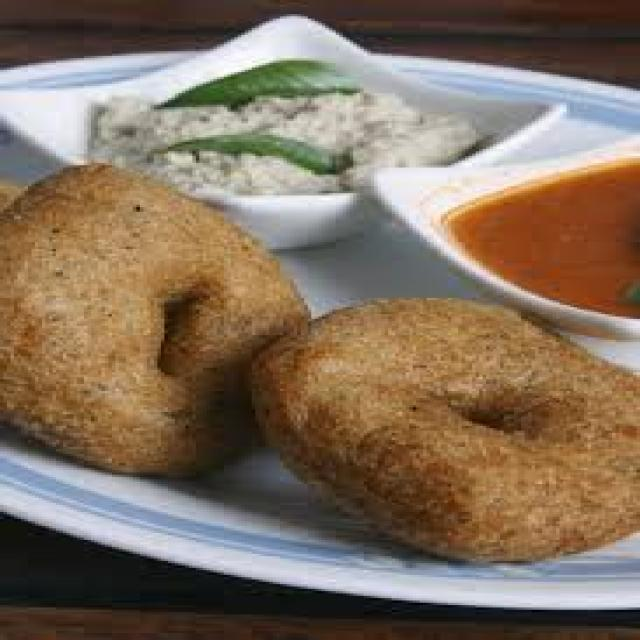MEDU VADA: (252, 298, 637, 559), (3, 163, 308, 475)
